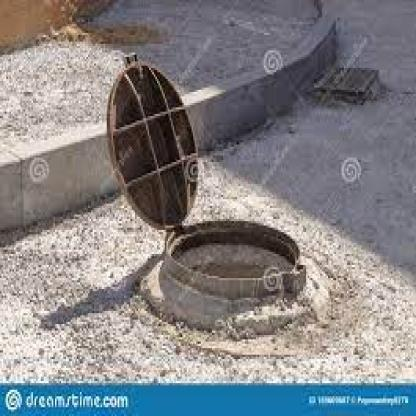open manhole-not overflowing-: (100, 52, 310, 313)
